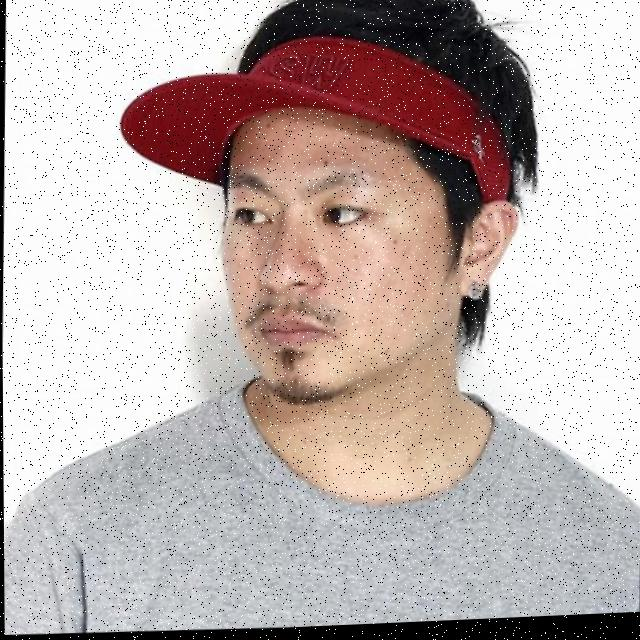illegal_helmet: (94, 0, 544, 428)
